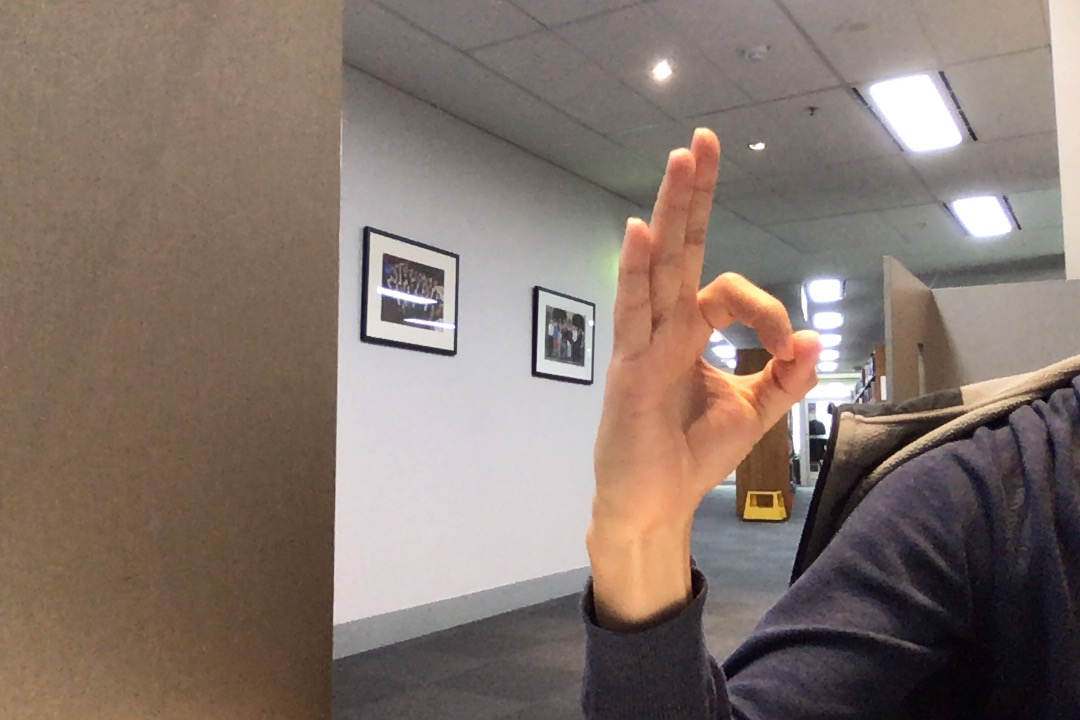oksign: (590, 114, 828, 514)
